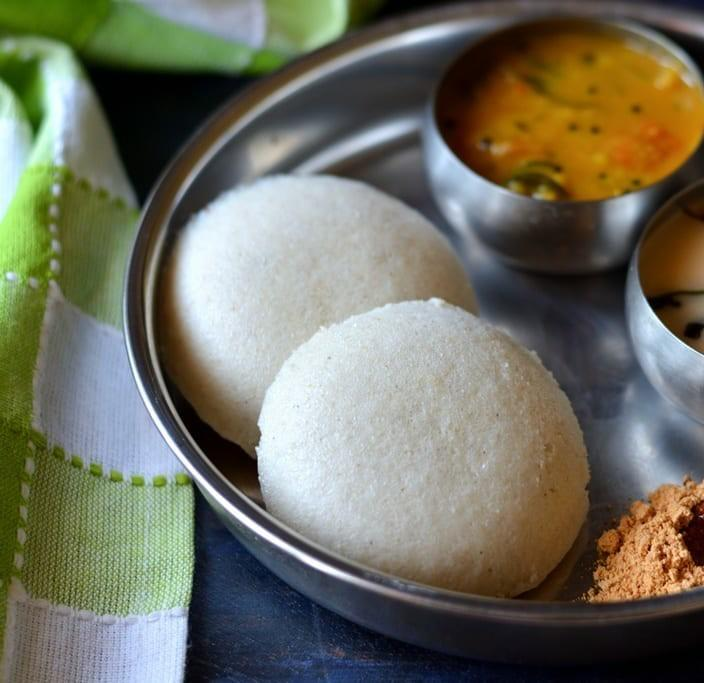Idli: (256, 299, 586, 603), (157, 182, 478, 457)
